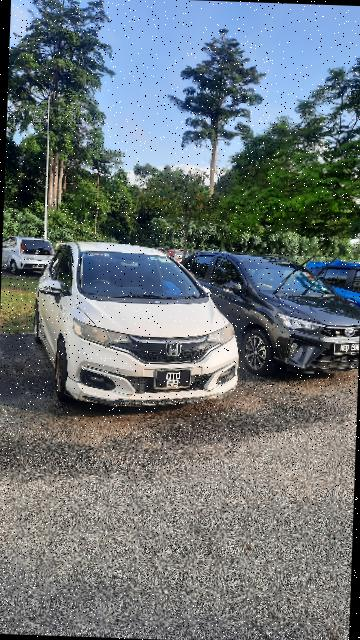License_Plate: (153, 369, 194, 392), (334, 341, 360, 357)
car: (27, 241, 249, 419), (179, 245, 360, 385)
